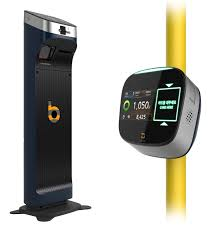terminal: (117, 66, 204, 163)
